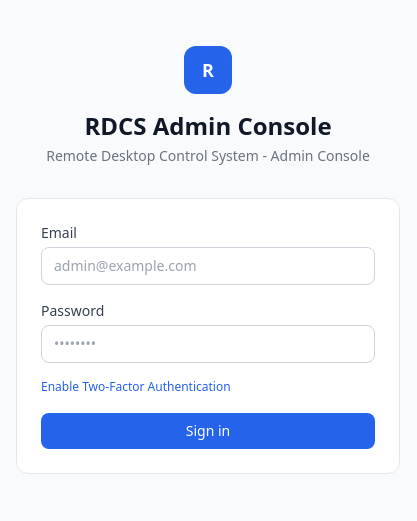
Test: LoginPage › displays error message on login failure
Step 1. Type "bad@test.com" into the field labelled "Email" → (208, 266), box [41, 247, 375, 285]
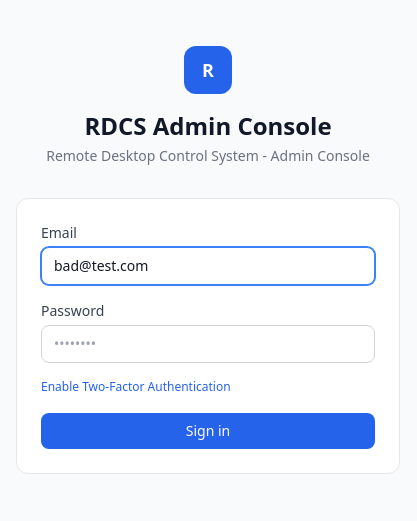
Step 2. Type "wrong" into the password field labelled "Password" → (208, 344), box [41, 325, 375, 363]
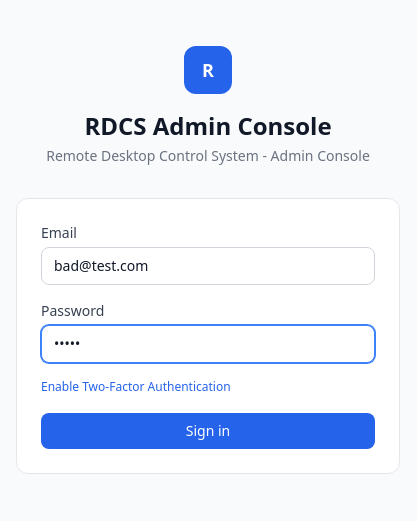
Step 3. Click the button "Sign in" → (208, 431), box [41, 413, 375, 449]
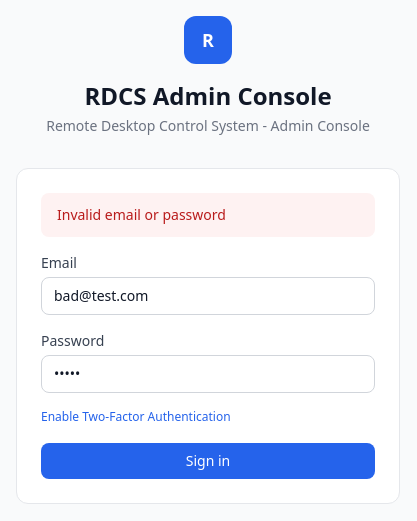
Expected: the button "Sign in" is enabled, [41, 443, 375, 479]
Expected: the text "Invalid email or password" is shown, [41, 193, 375, 237]
